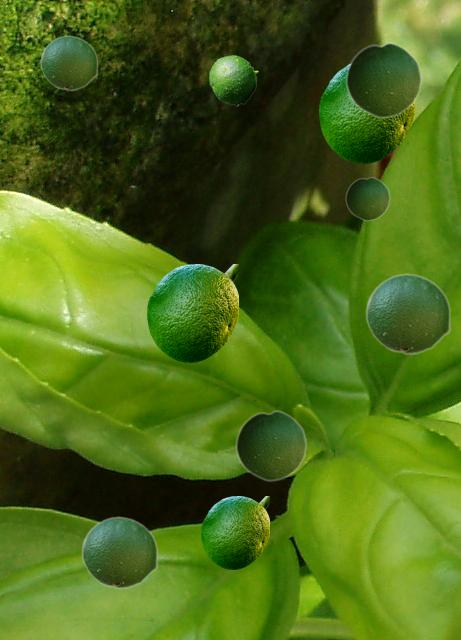dalandan: (319, 65, 413, 162), (147, 264, 237, 361), (365, 273, 450, 354), (345, 41, 421, 118), (81, 516, 157, 588), (235, 409, 306, 481), (201, 496, 268, 568), (40, 35, 97, 90), (209, 55, 257, 105), (345, 176, 389, 220)
